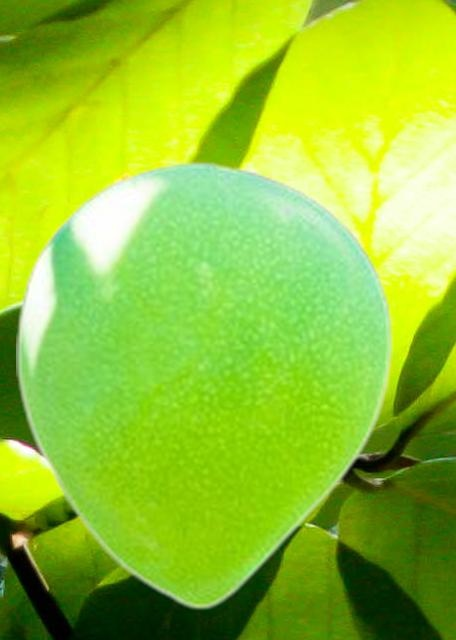green_mango: (16, 160, 392, 610)
